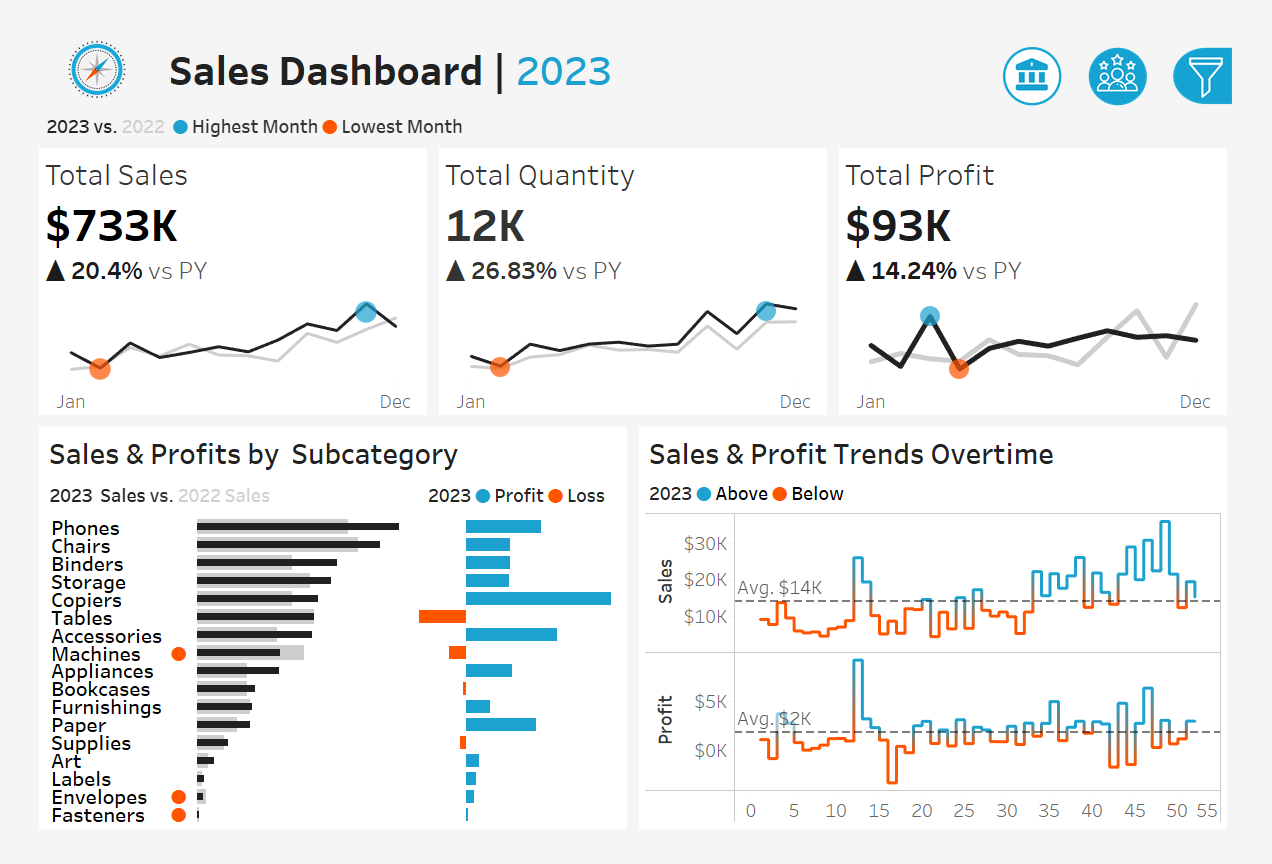

The dashboard page shown, as its layout file describes it:
{"tool":"tableau","page":{"name":"Sales Dashboard","canvas":[1200,800],"ordinal":1},"visuals":[{"type":"image","param":"C:/Users/ishan/Downloads/Sales-Dashboard-Materials/Sales Dashboard Materials/Das","box":[0,0,128,68]},{"type":"text","box":[128,0,1072,68]},{"type":"blank","box":[964,2,233,83]},{"type":"dashboard-object","box":[957,7,85,68]},{"type":"dashboard-object","box":[1042,7,85,68]},{"type":"worksheet","title":"Legend KPI","mark":"Automatic","box":[0,68,1200,45]},{"type":"text","box":[964,85,233,47]},{"type":"worksheet","title":"KPI Sales","mark":"Automatic","rows":["Calculation_1635932580978159620"],"cols":["Order Date"],"box":[0,113,400,273]},{"type":"worksheet","title":"KPI Quantity","mark":"Automatic","rows":["Calculation_1635932580991369231"],"cols":["Order Date"],"box":[400,113,400,273]},{"type":"worksheet","title":"KPI Profit","mark":"Line","rows":["Calculation_1635932580991610896"],"cols":["Order Date"],"box":[800,113,400,273]},{"type":"parameter","param":"[Parameters].[Parameter 1]","box":[964,132,233,60]},{"type":"text","box":[964,192,233,39]},{"type":"filter","title":"KPI Sales","param":"[federated.19nci2e0e2gx0z10ymuuq1wstq3q].[none:Category:nk]","box":[964,231,233,60]},{"type":"filter","title":"KPI Sales","param":"[federated.19nci2e0e2gx0z10ymuuq1wstq3q].[none:Sub-Category:nk]","box":[964,291,233,60]},{"type":"blank","box":[964,351,233,45]},{"type":"text","box":[8,394,584,47]},{"type":"text","box":[608,394,584,47]},{"type":"text","box":[964,396,233,39]},{"type":"filter","title":"KPI Sales","param":"[federated.19nci2e0e2gx0z10ymuuq1wstq3q].[none:Region:nk]","box":[964,435,233,60]},{"type":"worksheet","title":"Legend Subcategory","mark":"Automatic","box":[8,441,379,38]},{"type":"text","box":[387,441,205,38]},{"type":"text","box":[608,441,584,33]},{"type":"worksheet","title":"Weekly Trends","mark":"Automatic","rows":["Calculation_1635932580973363200","Calculation_1635932580990201867"],"cols":["Order Date"],"box":[608,474,584,318]},{"type":"worksheet","title":"Subcategory Comparision","mark":"Bar","rows":["Sub-Category","Calculation_1635932581038911511"],"cols":["CY Sales (copy)_1635932580973649921","Calculation_1635932580973363200","Calculation_1635932580990201867"],"box":[8,479,584,312.9]},{"type":"filter","title":"KPI Sales","param":"[federated.19nci2e0e2gx0z10ymuuq1wstq3q].[none:State:nk]","box":[964,495,233,60]},{"type":"filter","title":"KPI Sales","param":"[federated.19nci2e0e2gx0z10ymuuq1wstq3q].[none:City:nk]","box":[964,555,233,60]}]}

Visuals, with their boxes in screenshot pixels (x1, y1, x2, y2), scaled from the page's 1200x800 canvas onto the 1272x864 screenshot:
image: (0,0,136,73)
text: (136,0,1271,73)
blank: (1022,2,1269,92)
dashboard-object: (1014,8,1105,81)
dashboard-object: (1105,8,1195,81)
"Legend KPI" worksheet: (0,73,1271,122)
text: (1022,92,1269,143)
"KPI Sales" worksheet: (0,122,424,417)
"KPI Quantity" worksheet: (424,122,848,417)
"KPI Profit" worksheet (Line marks): (848,122,1271,417)
parameter: (1022,143,1269,207)
text: (1022,207,1269,249)
"KPI Sales" filter: (1022,249,1269,314)
"KPI Sales" filter: (1022,314,1269,379)
blank: (1022,379,1269,428)
text: (8,426,628,476)
text: (644,426,1264,476)
text: (1022,428,1269,470)
"KPI Sales" filter: (1022,470,1269,535)
"Legend Subcategory" worksheet: (8,476,410,517)
text: (410,476,628,517)
text: (644,476,1264,512)
"Weekly Trends" worksheet: (644,512,1264,855)
"Subcategory Comparision" worksheet (Bar marks): (8,517,628,855)
"KPI Sales" filter: (1022,535,1269,599)
"KPI Sales" filter: (1022,599,1269,664)
